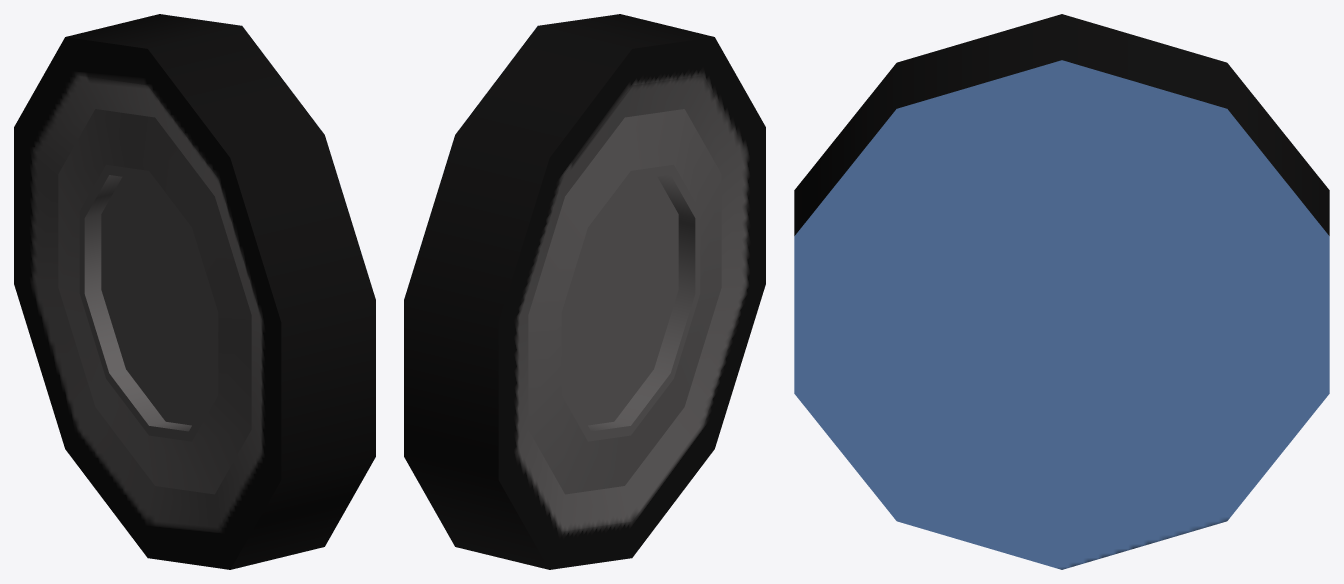
The model's file is cardboard_car6_tire_rear_right.fbx.
3 views of the same model, side by side, from view 1: azimuth 30°, elevation 25°; view 2: azimuth 150°, elevation 25°; view 3: azimuth 270°, elevation 25° (orthographic).
Visible parts, largest first — view 1: cardboard_car6_tire3; view 2: cardboard_car6_tire3; view 3: cardboard_car6_tire3.
Boxes of the visible parts, x1=… form: cardboard_car6_tire3: x1=14, y1=14, x2=375, y2=569; cardboard_car6_tire3: x1=404, y1=14, x2=765, y2=569; cardboard_car6_tire3: x1=794, y1=14, x2=1329, y2=569.
Size of the model in its own units: 8.99 by 46.27 by 44.01.
